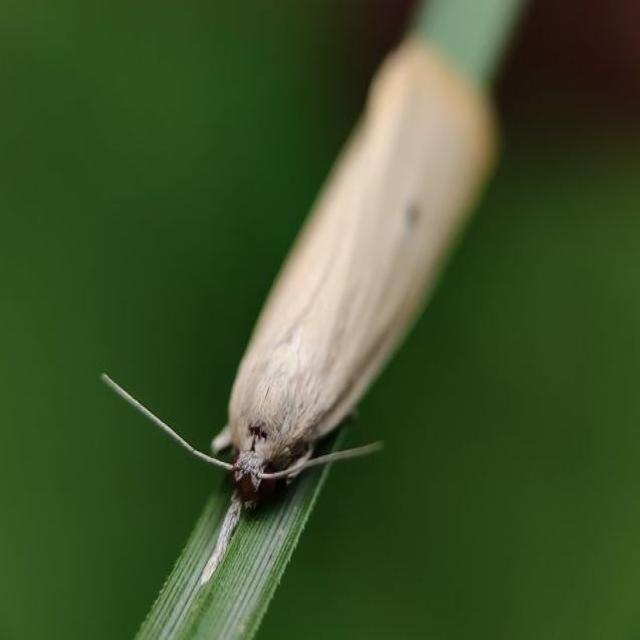rice stem borer -penggerek batang padi-: (96, 8, 526, 588)
